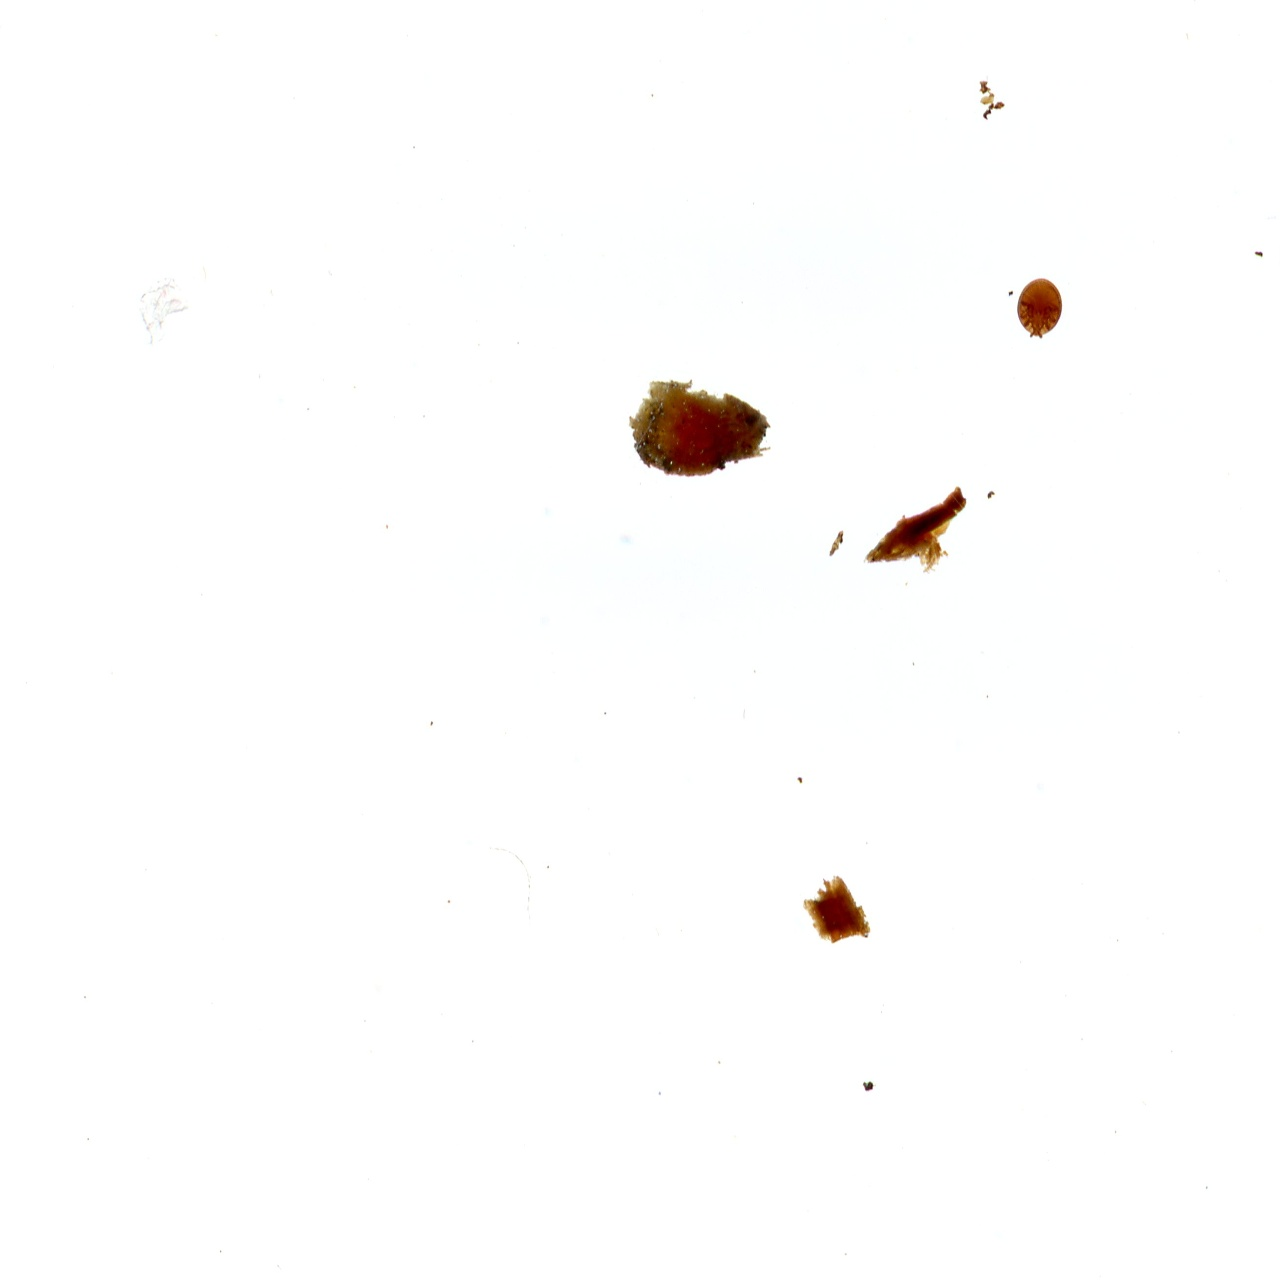arthropod: (1012, 272, 1065, 345)
